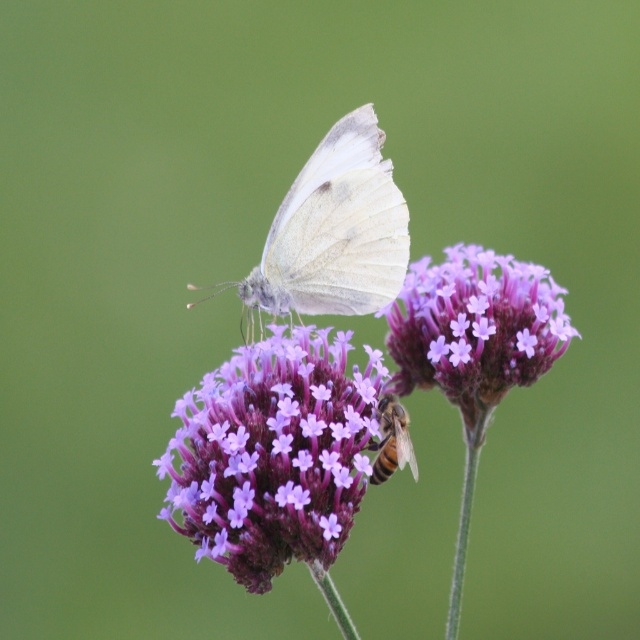Butterfly: (187, 102, 411, 365)
